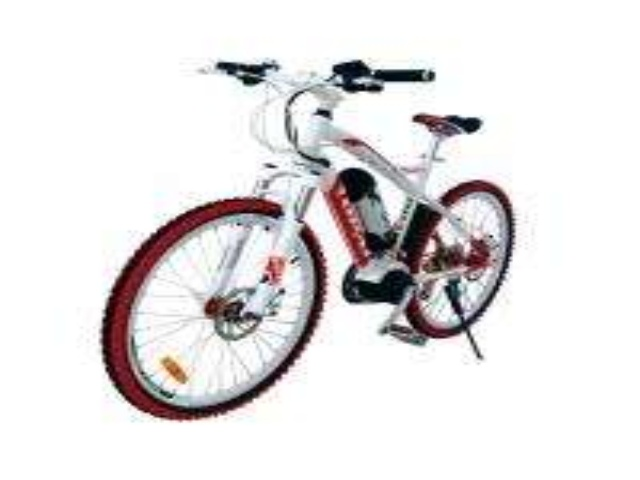bike: (97, 49, 523, 436)
